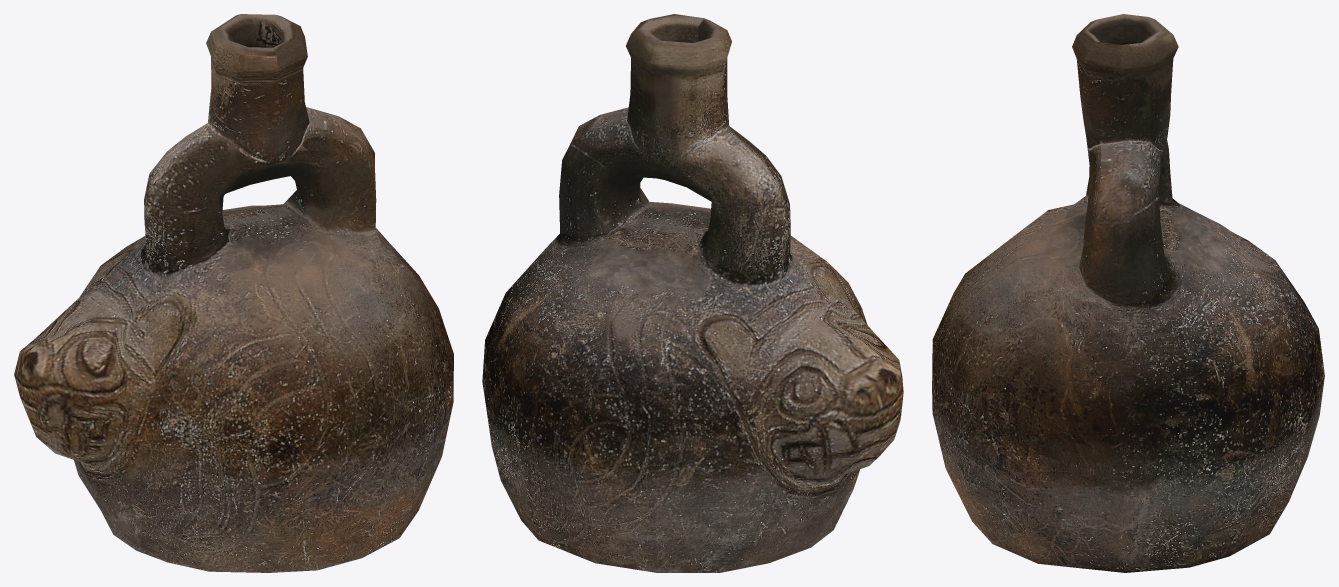
File: botella_-_203874_chavin.glb
3 renders of one model, left to right at view 1: azimuth 30°, elevation 25°; view 2: azimuth 150°, elevation 25°; view 3: azimuth 270°, elevation 25°, orthographic.
Parts seen in each view (by area): view 1: Box001; view 2: Box001; view 3: Box001.
Boxes of the visible parts, x1=… form: Box001: x1=14, y1=14, x2=453, y2=572; Box001: x1=482, y1=14, x2=903, y2=572; Box001: x1=932, y1=14, x2=1324, y2=572.
Bounding box in the file's own units: 4.88 × 5.67 × 4.21.
1 material, 1 textured.
